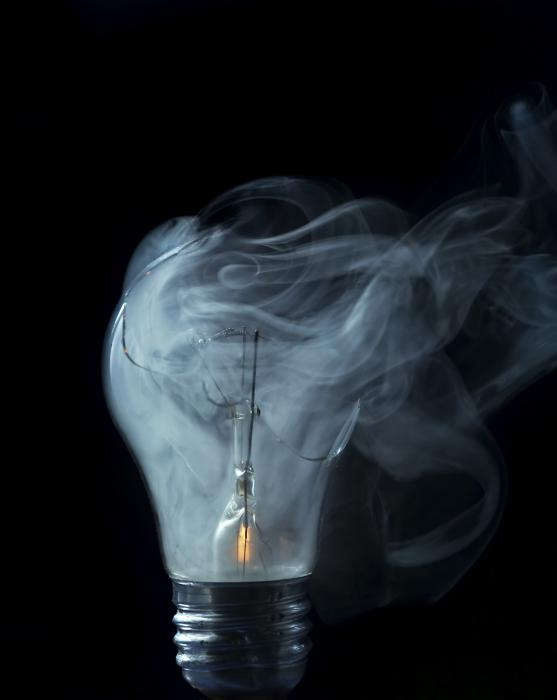Nonrec_Glass: (101, 230, 368, 693)
